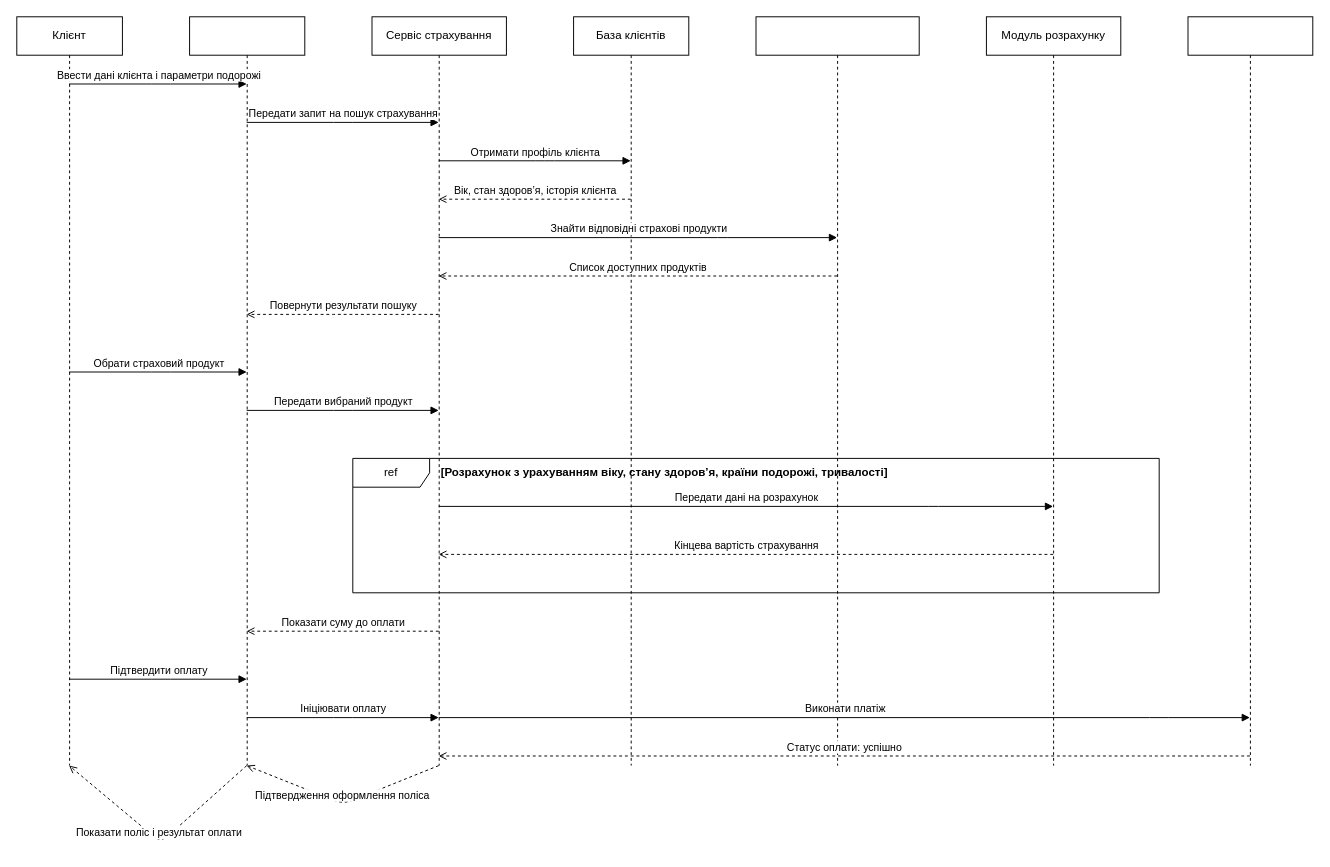
Image size: 1330x867. Some labels were removed from this diagram. The shapes that lost their labels are listed below. From the top down, each one's box as (x1, y1, x2, y2) in pixels, then its label:
(189, 16, 305, 766): Веб-інтерфейс
(755, 16, 919, 766): Каталог страхових продуктів
(1187, 16, 1313, 766): Платіжний сервіс
